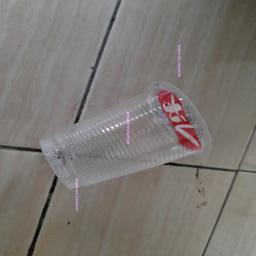plastic: (41, 82, 212, 190)
